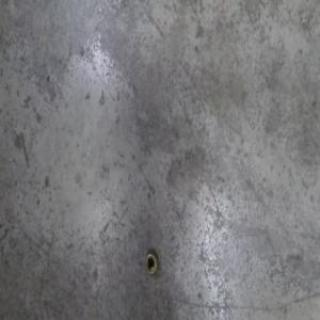Nuttrack_idkeyframe: (142, 248, 158, 276)
